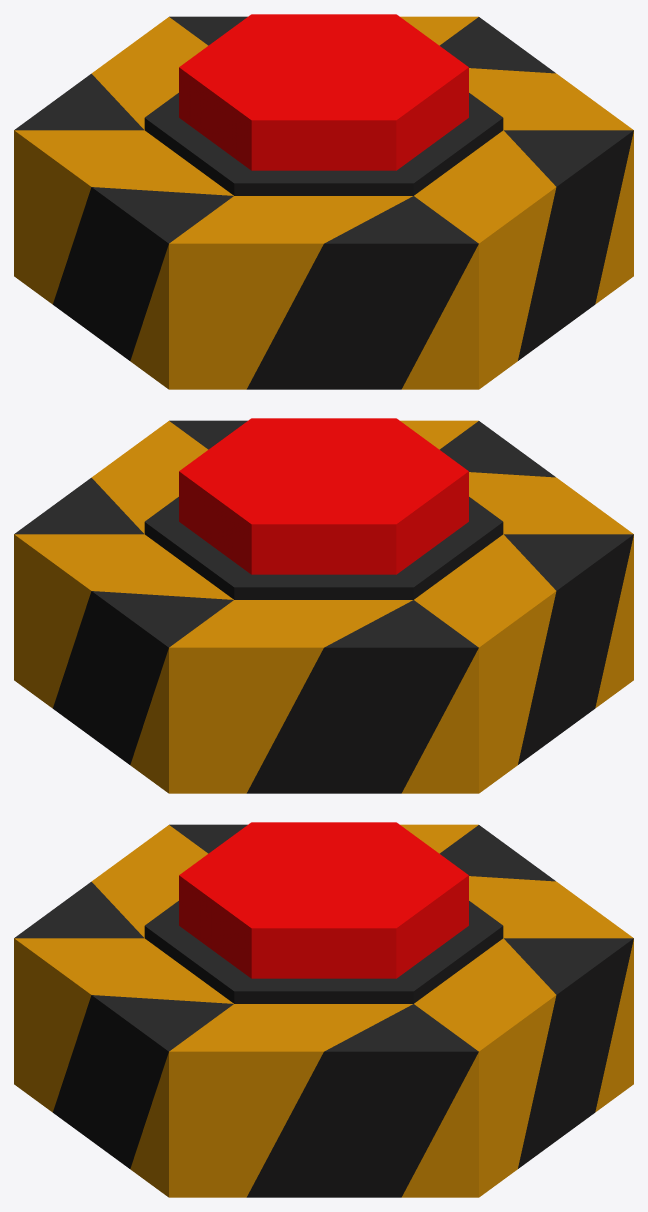
File: Danger_SciFi_Button.glb
The picture shows the model from 3 angles, top to bottom: view 1: azimuth 30°, elevation 25°; view 2: azimuth 150°, elevation 25°; view 3: azimuth 270°, elevation 25°; orthographic projection.
Visible parts, largest first — view 1: RedButtonShield_Base, RedButtonShield; view 2: RedButtonShield_Base, RedButtonShield; view 3: RedButtonShield_Base, RedButtonShield.
Boxes of the visible parts, x1,y1,x2,y2 form: RedButtonShield_Base: (14,16,633,389); RedButtonShield: (179,14,468,170); RedButtonShield_Base: (14,420,633,793); RedButtonShield: (179,418,468,574); RedButtonShield_Base: (14,824,633,1197); RedButtonShield: (179,822,468,978).
Size of what is drawn, in the model's own units: 0.3893 by 0.1672 by 0.4495.
Materials: 1 (1 with a texture image).
